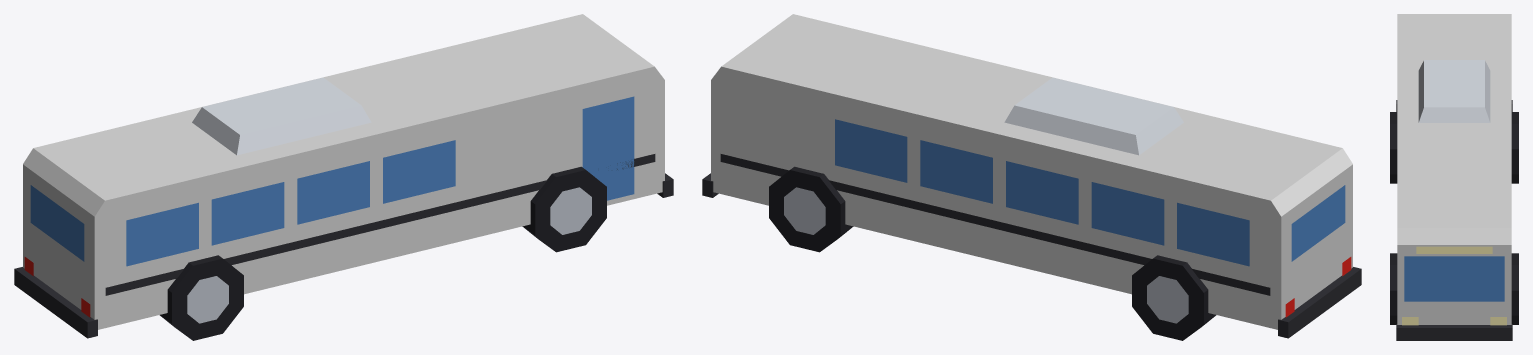
Rendered from bus.glb.
3 renders of one model, left to right at view 1: azimuth 30°, elevation 25°; view 2: azimuth 150°, elevation 25°; view 3: azimuth 270°, elevation 25°, orthographic. The views are drawn at different scales.
Parts seen in each view (by area): view 1: Body; view 2: Body; view 3: Body.
Part boxes in pixels (x1=…): Body: x1=14, y1=14, x2=673, y2=340; Body: x1=702, y1=14, x2=1361, y2=340; Body: x1=1390, y1=14, x2=1518, y2=340.
Bounding box in the file's own units: 1.13 × 0.32 × 0.27.
